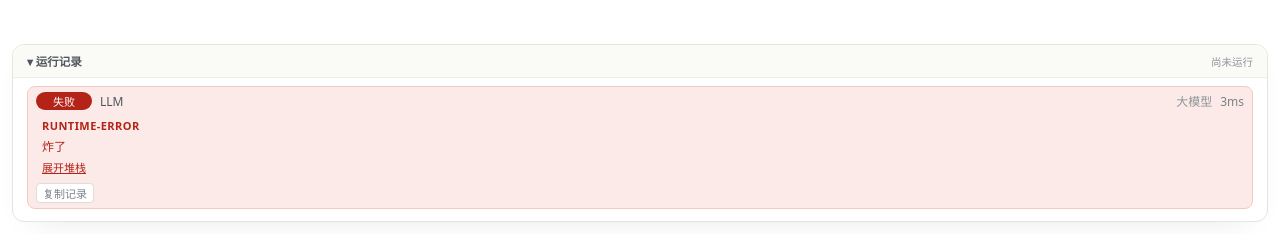
it: 运行记录面板（R5-6、R5-7） › 错误堆栈默认折叠，可展开
Expected: the text "at foo()" is not shown
Click the button "展开堆栈".
click(64, 167)  # box [42,159,86,175]
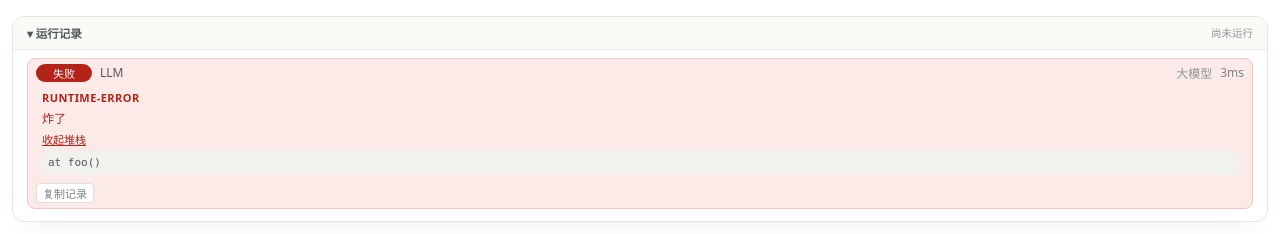
Expected: the text "at foo()" is shown, [42,150,1238,175]
